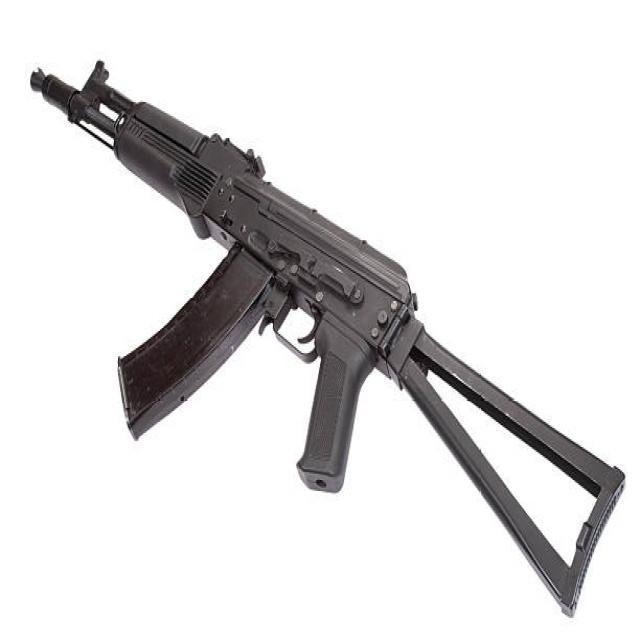weapon: (31, 59, 627, 620)
